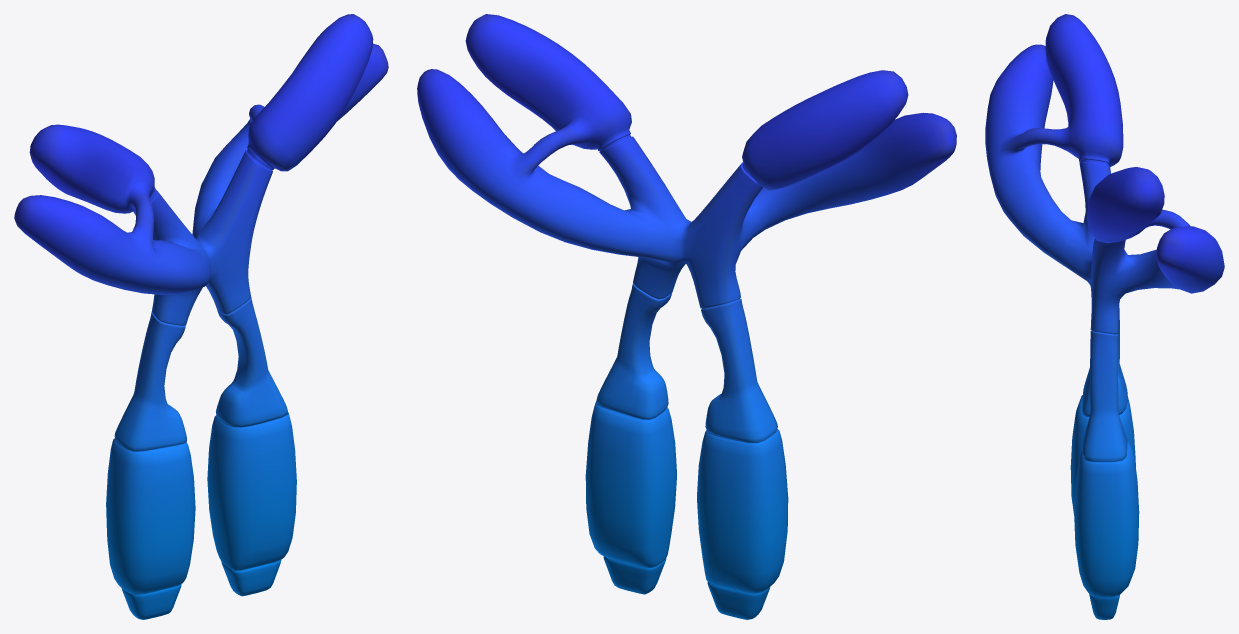
File: Tecentriq.glb
3 renders of one model, left to right at view 1: azimuth 30°, elevation 25°; view 2: azimuth 150°, elevation 25°; view 3: azimuth 270°, elevation 25°, orthographic. The views are drawn at different scales.
Visible parts, largest first — view 1: Cube.002; view 2: Cube.002; view 3: Cube.002.
Part boxes in pixels (bbox=[...]): Cube.002: bbox=[14, 14, 388, 619]; Cube.002: bbox=[417, 14, 956, 619]; Cube.002: bbox=[985, 14, 1224, 619].
Bounding box in the file's own units: 2.86 × 3.31 × 1.44.
Materials: 1 (1 with a texture image).
